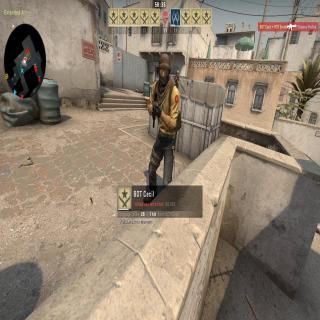T-Body: (144, 50, 180, 210), (174, 69, 181, 89)
T-Head: (156, 54, 172, 86), (176, 71, 180, 76)
